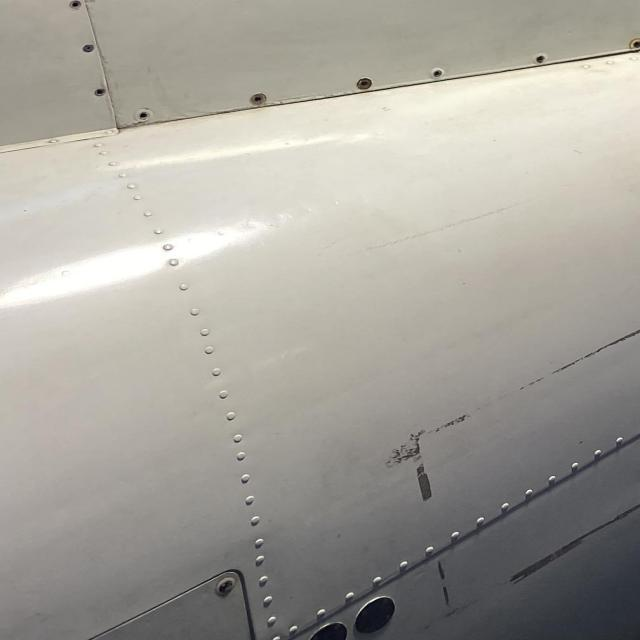Missing-head: (356, 76, 373, 91), (249, 93, 268, 105), (93, 87, 107, 98), (432, 68, 445, 78), (69, 0, 82, 9), (534, 54, 547, 63), (139, 110, 149, 121), (631, 39, 640, 51)
